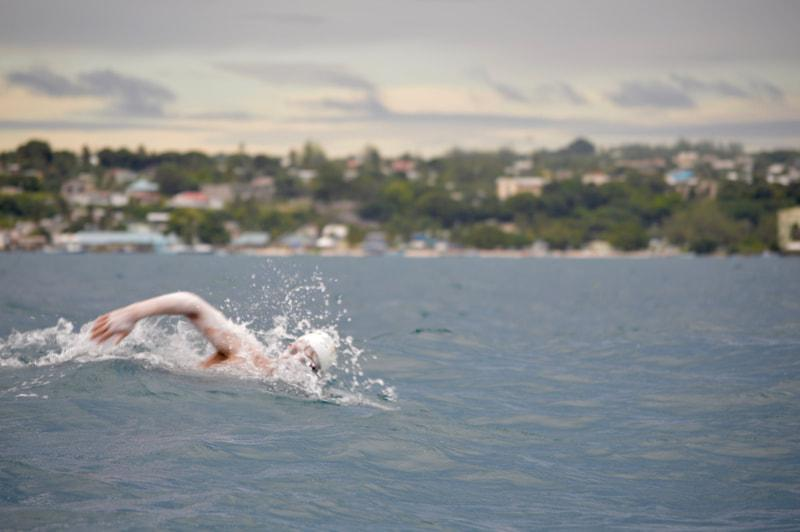human: (74, 285, 345, 390)
